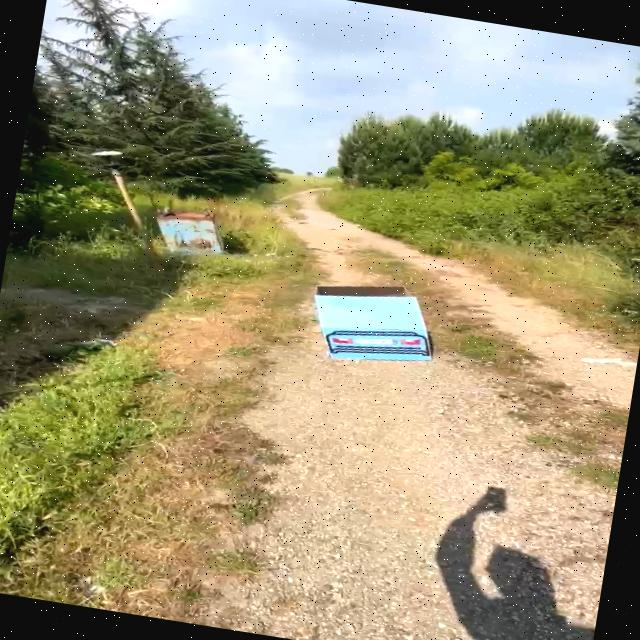blue_car: (294, 265, 462, 381)
